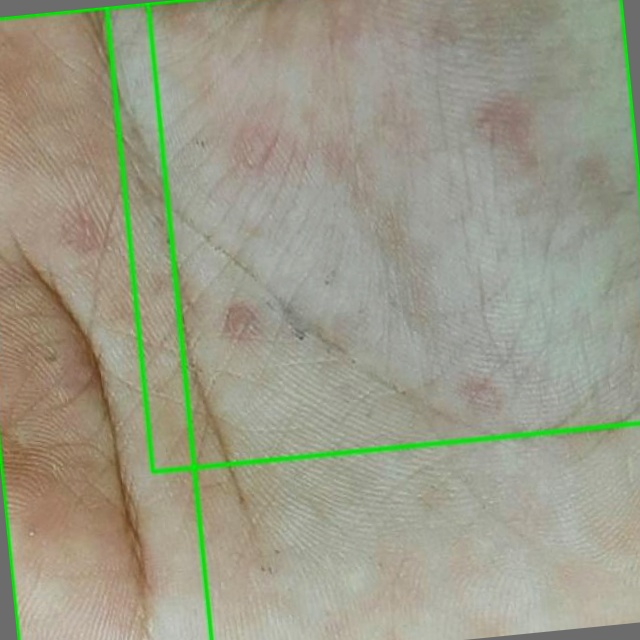Contact Dermatitis: (106, 0, 639, 471), (0, 3, 211, 639)
